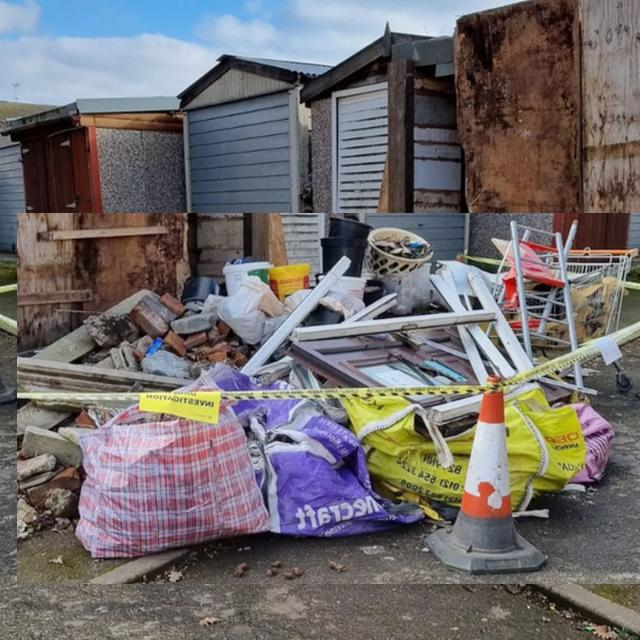dumping: (17, 213, 640, 584)
